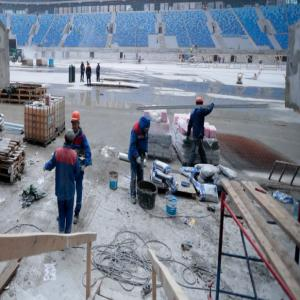blue: (141, 118, 150, 134)
none: (64, 130, 75, 147)
red: (71, 111, 81, 132), (196, 97, 204, 110)
